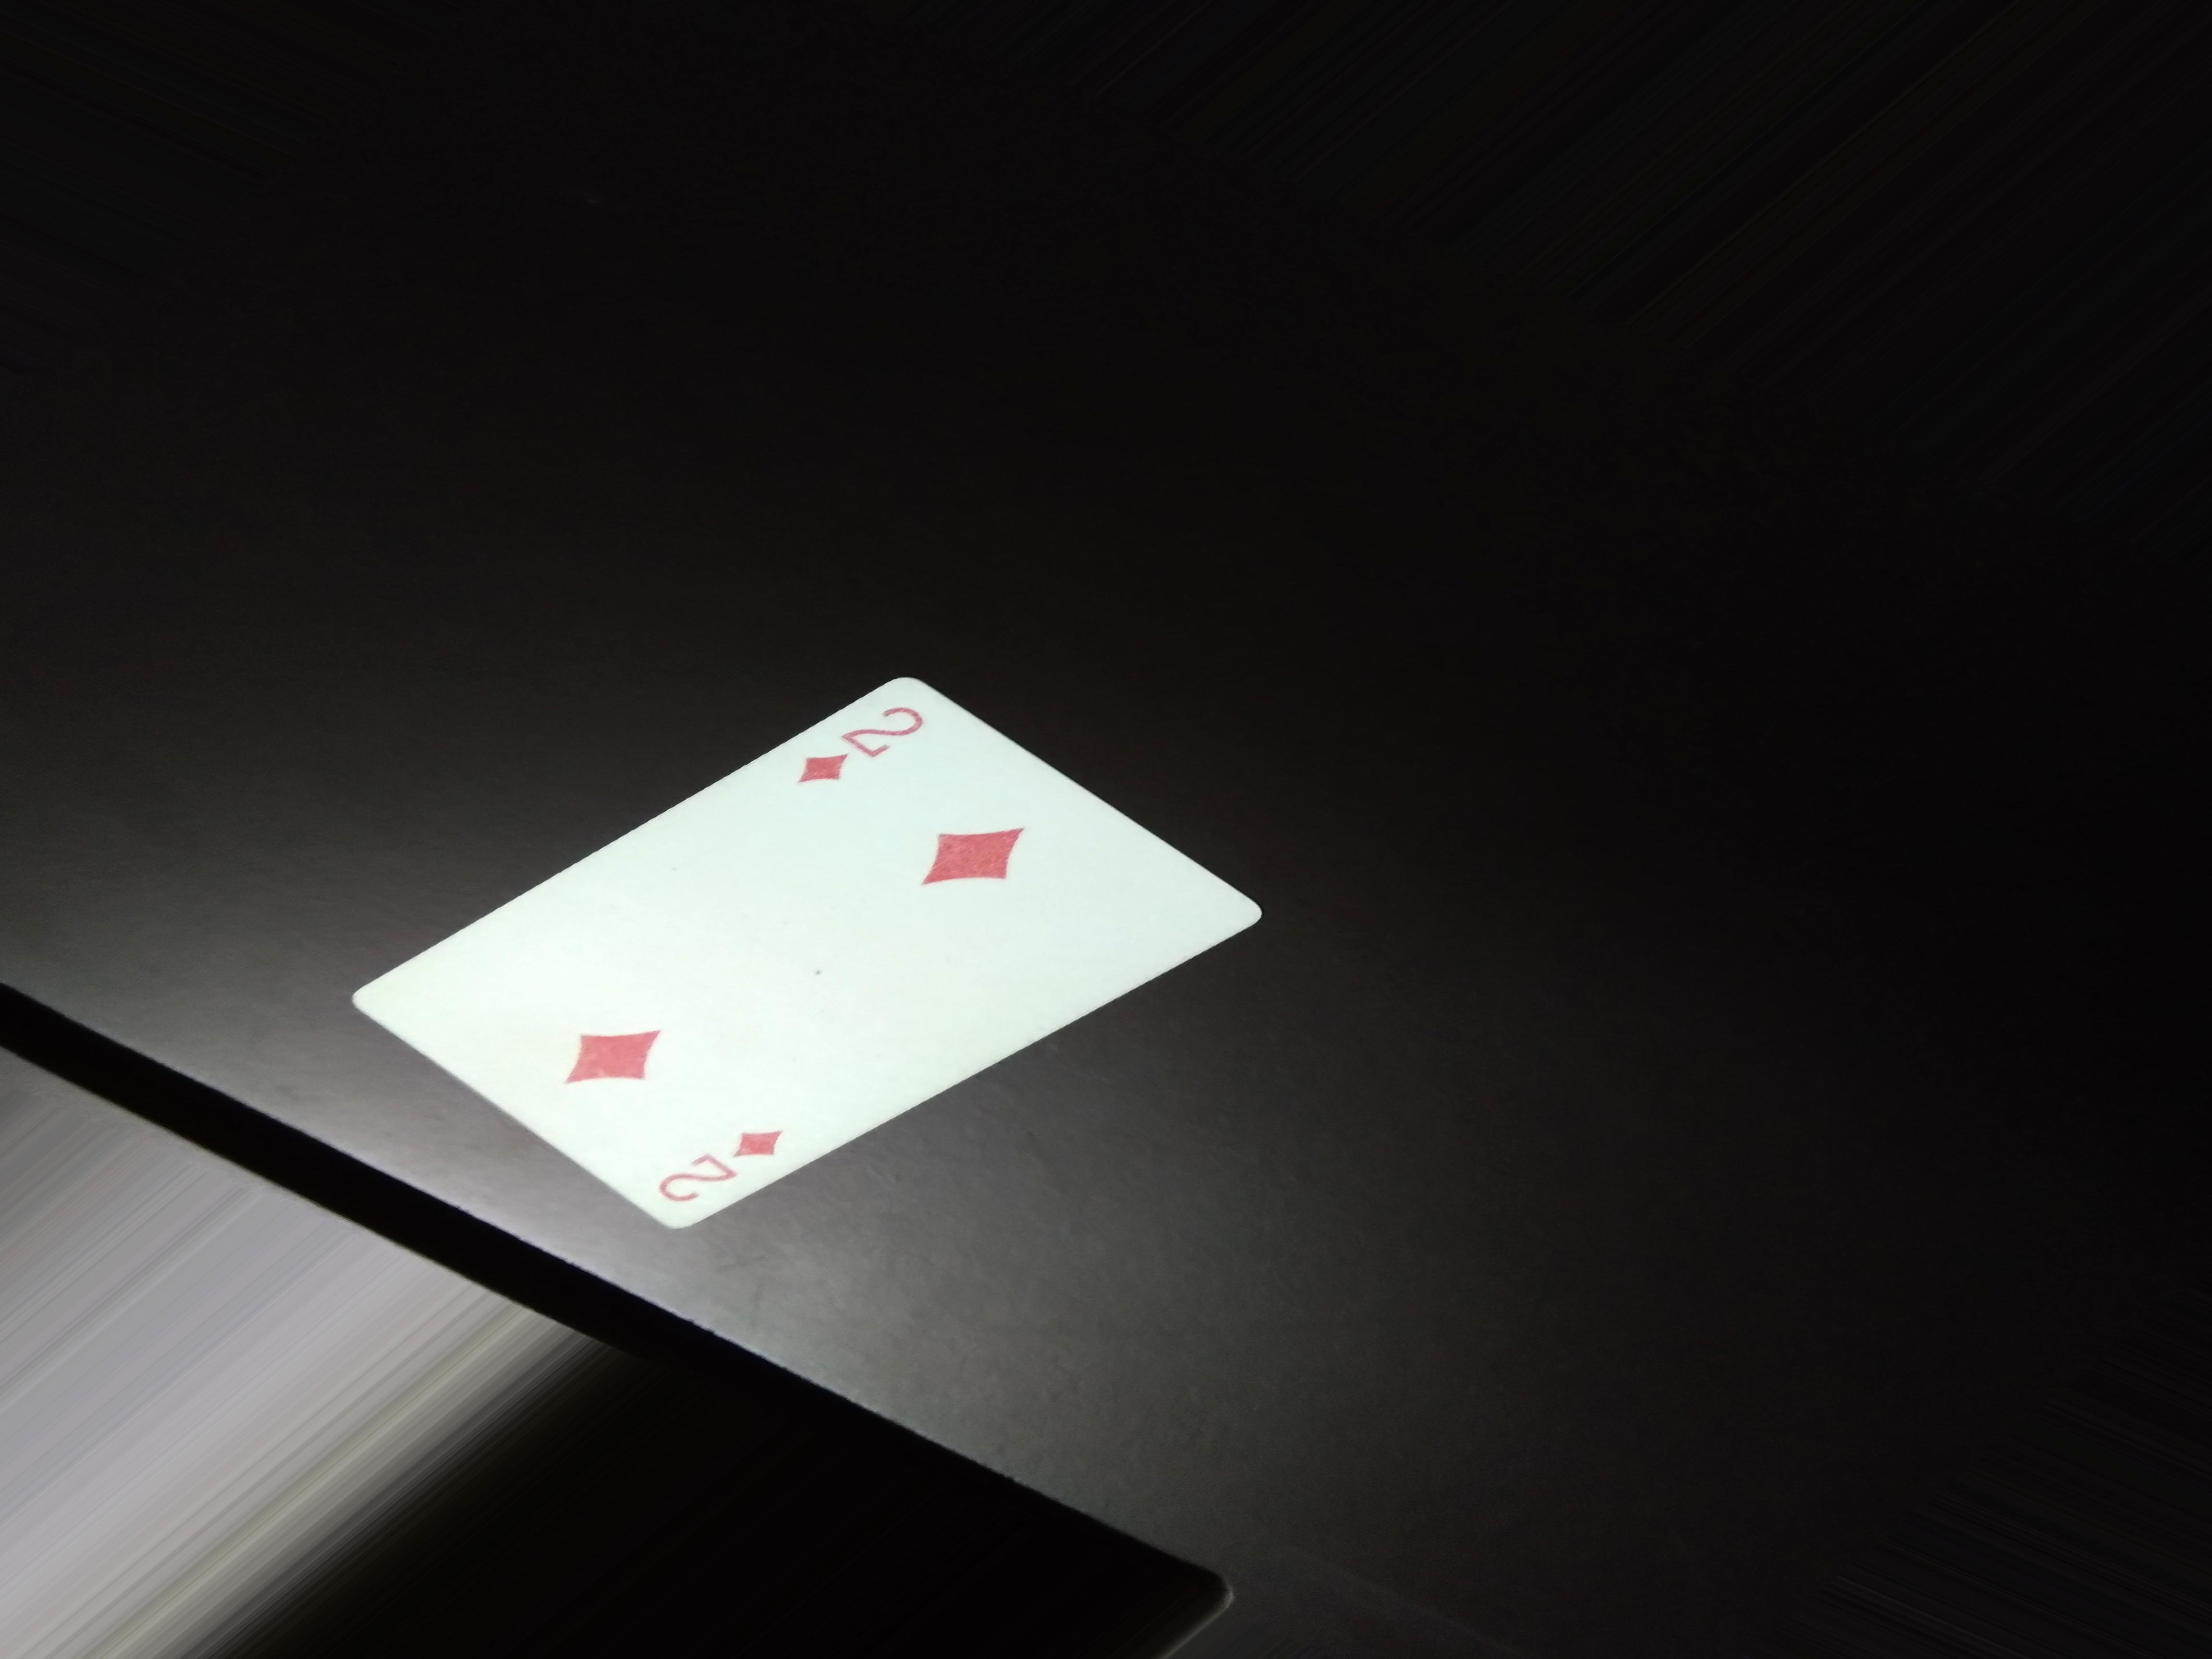2D: (798, 674, 921, 824)
